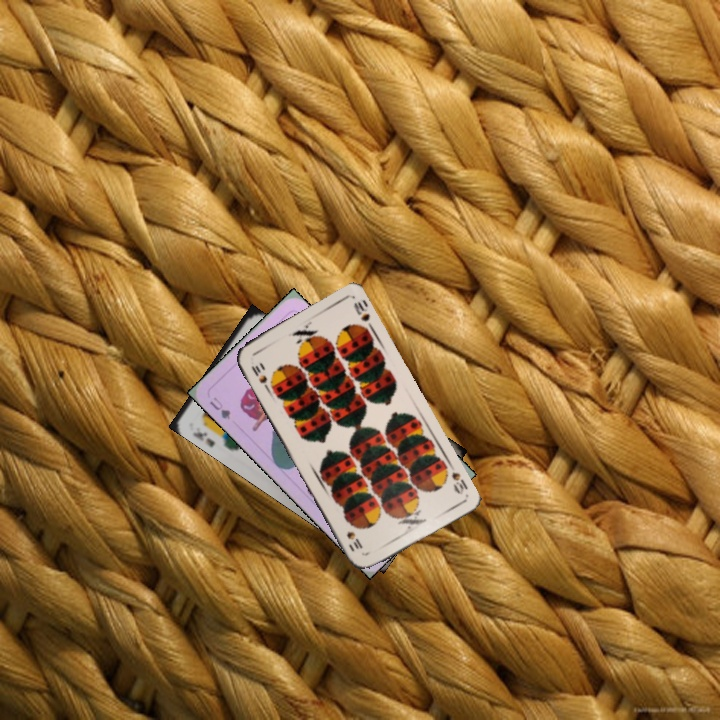EK: (189, 427, 217, 450)
GU: (205, 393, 233, 422)
S10: (445, 459, 470, 497), (247, 361, 271, 393)
